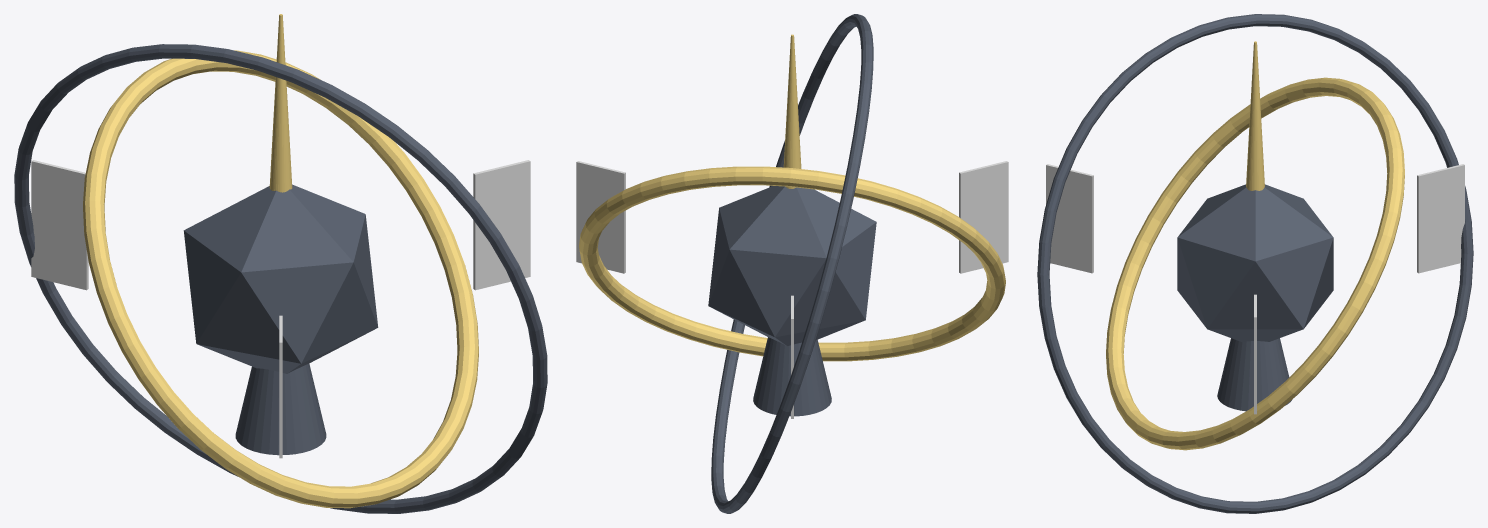
File: von_neumann_probe.glb
3 renders of one model, left to right at view 1: azimuth 30°, elevation 25°; view 2: azimuth 150°, elevation 25°; view 3: azimuth 270°, elevation 25°, orthographic. The views are drawn at different scales.
Visible parts, largest first — view 1: ProbeCore, CollectorRing, SensorRing, SolarFin_1, IonNozzle, SolarFin_0, TransceiverSpire; view 2: ProbeCore, CollectorRing, SensorRing, SolarFin_2, IonNozzle, SolarFin_0, TransceiverSpire; view 3: ProbeCore, CollectorRing, SensorRing, SolarFin_1, SolarFin_2, IonNozzle, TransceiverSpire.
Boxes of the visible parts, x1=… form: ProbeCore: x1=183, y1=184, x2=378, y2=373; CollectorRing: x1=83, y1=50, x2=478, y2=508; SensorRing: x1=14, y1=44, x2=547, y2=513; SolarFin_1: x1=31, y1=160, x2=88, y2=290; IonNozzle: x1=235, y1=364, x2=326, y2=455; SolarFin_0: x1=473, y1=160, x2=530, y2=290; TransceiverSpire: x1=269, y1=14, x2=292, y2=192; ProbeCore: x1=708, y1=186, x2=876, y2=345; CollectorRing: x1=579, y1=166, x2=1005, y2=361; SensorRing: x1=711, y1=14, x2=873, y2=513; SolarFin_2: x1=959, y1=161, x2=1008, y2=273; IonNozzle: x1=753, y1=337, x2=831, y2=416; SolarFin_0: x1=576, y1=161, x2=625, y2=273; TransceiverSpire: x1=783, y1=34, x2=801, y2=188; ProbeCore: x1=1177, y1=184, x2=1333, y2=341; CollectorRing: x1=1106, y1=77, x2=1404, y2=450; SensorRing: x1=1037, y1=14, x2=1473, y2=513; SolarFin_1: x1=1417, y1=164, x2=1464, y2=273; SolarFin_2: x1=1046, y1=164, x2=1093, y2=273; IonNozzle: x1=1217, y1=338, x2=1292, y2=411; TransceiverSpire: x1=1246, y1=41, x2=1264, y2=190.
Bounding box in the file's own units: 2.87 × 3.17 × 2.85.
